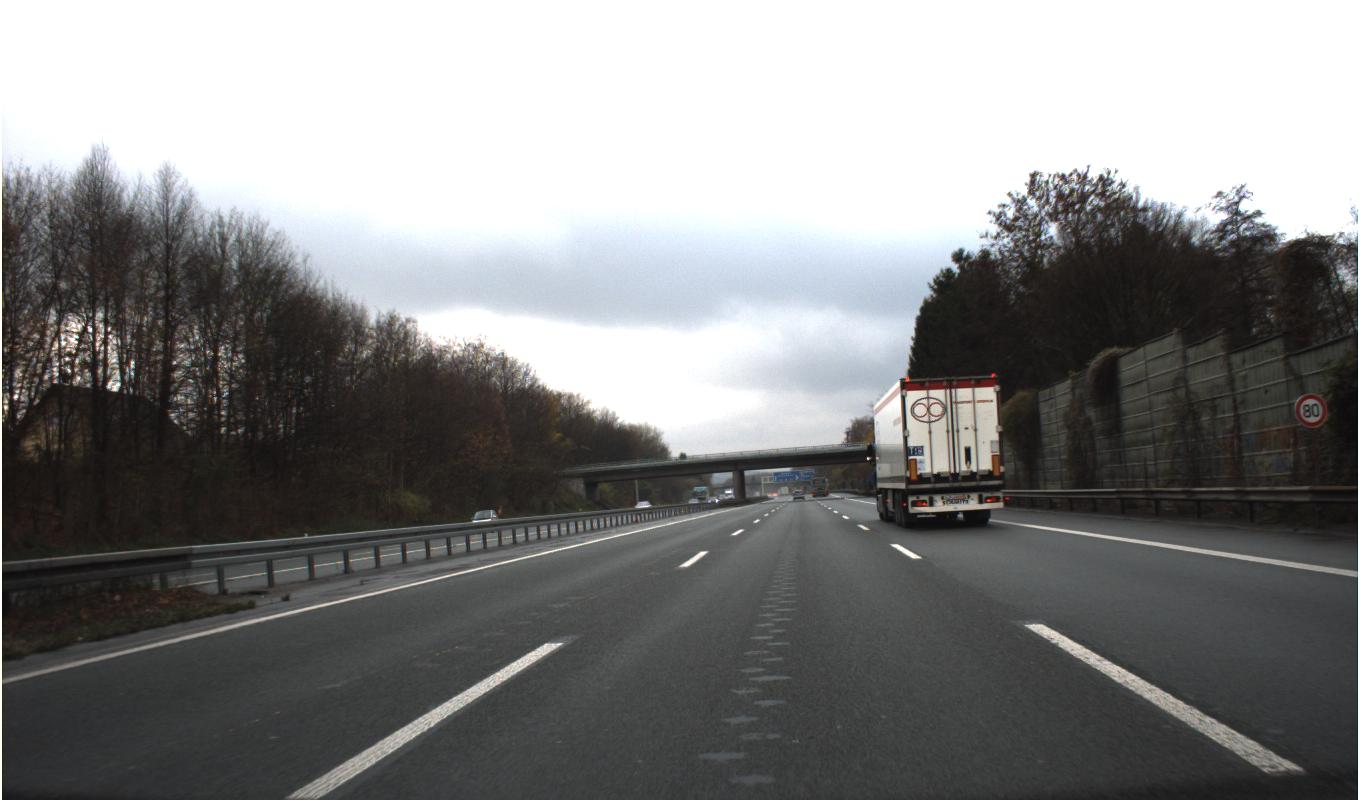prohibitory: (1294, 391, 1326, 428)
